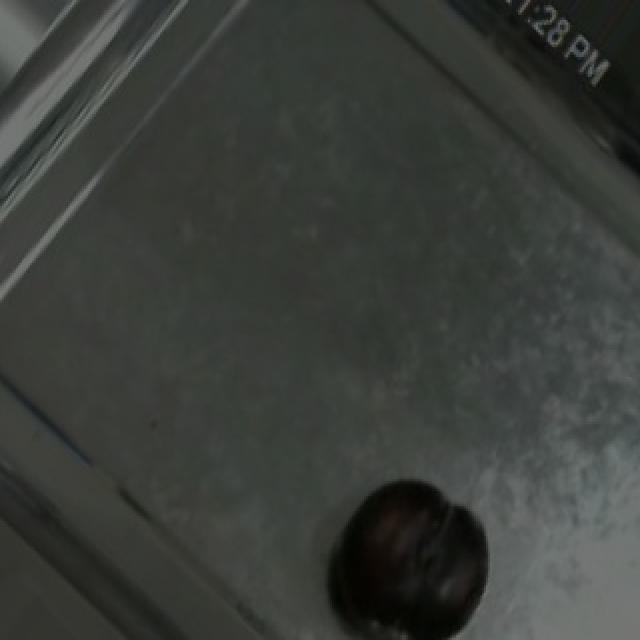Fruit: (326, 464, 496, 640)
